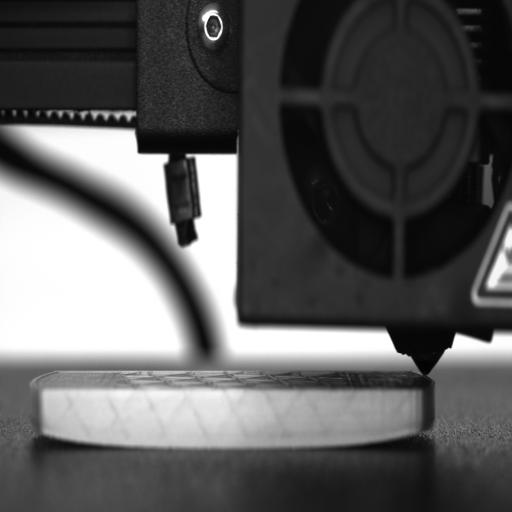warp: (364, 415, 439, 449), (30, 422, 116, 450)
